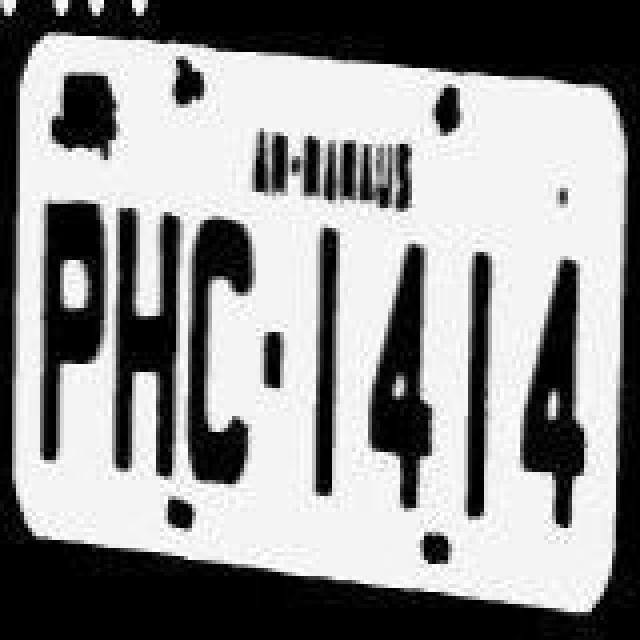1: (460, 242, 496, 526), (316, 222, 352, 498)
4: (518, 248, 598, 536), (370, 232, 442, 520)
C: (188, 204, 264, 500)
H: (114, 188, 186, 484)
P: (32, 180, 108, 476)
